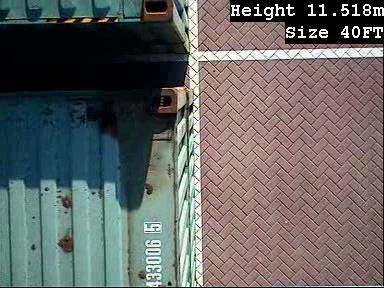groundmarker_2: (26, 42, 135, 101)
